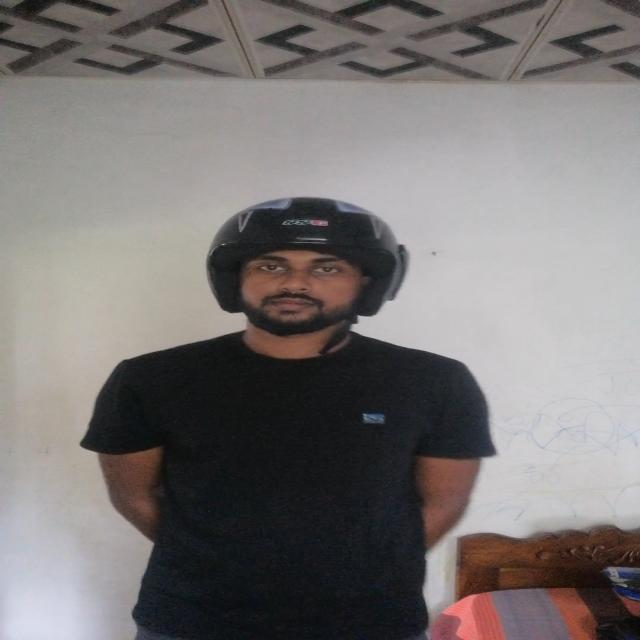Helmet_Wearer: (181, 188, 440, 382)
Person: (93, 191, 492, 640)
